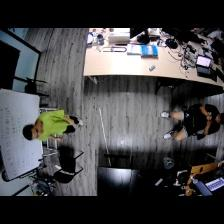normal: (160, 103, 224, 142), (23, 111, 80, 143)
